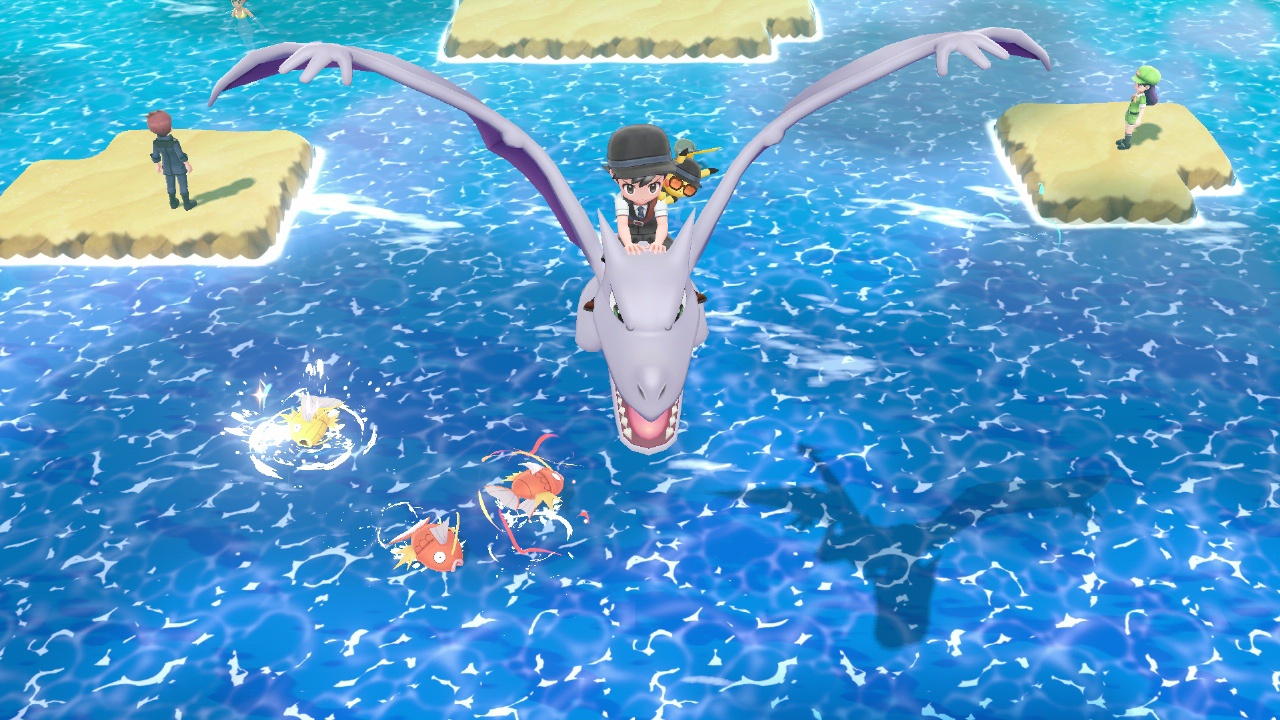Golden: (281, 394, 341, 452)
